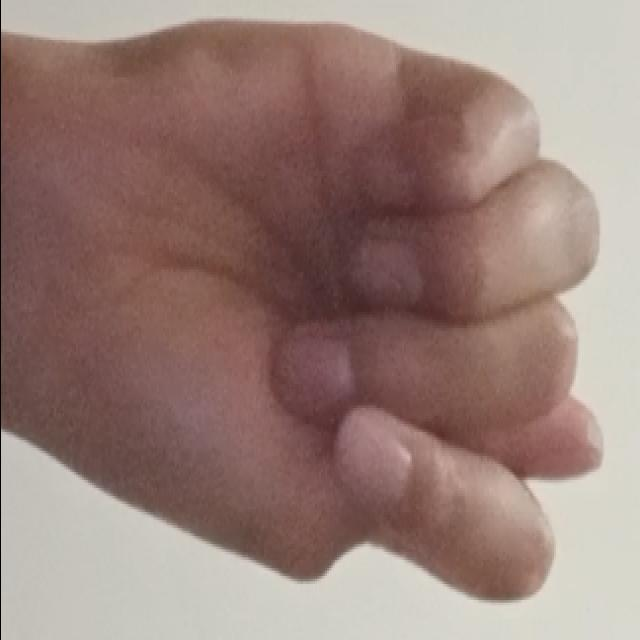T: (32, 11, 620, 614)
